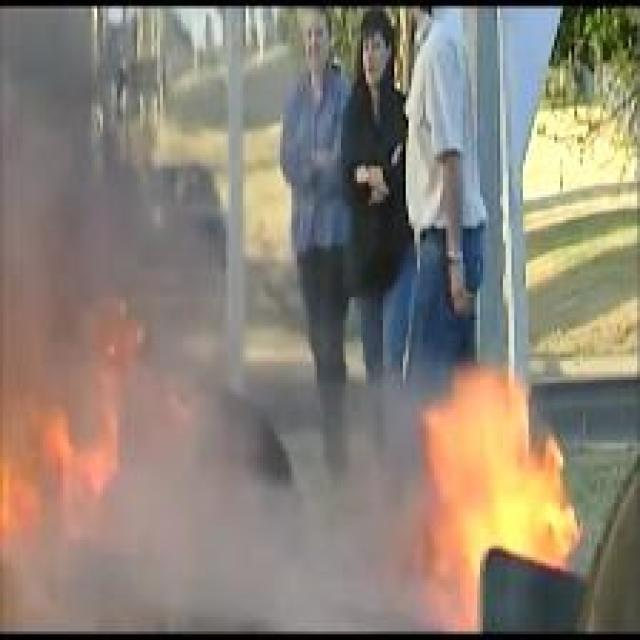Fire: (422, 372, 580, 556)
Smoke: (0, 370, 413, 640), (0, 6, 246, 366)
